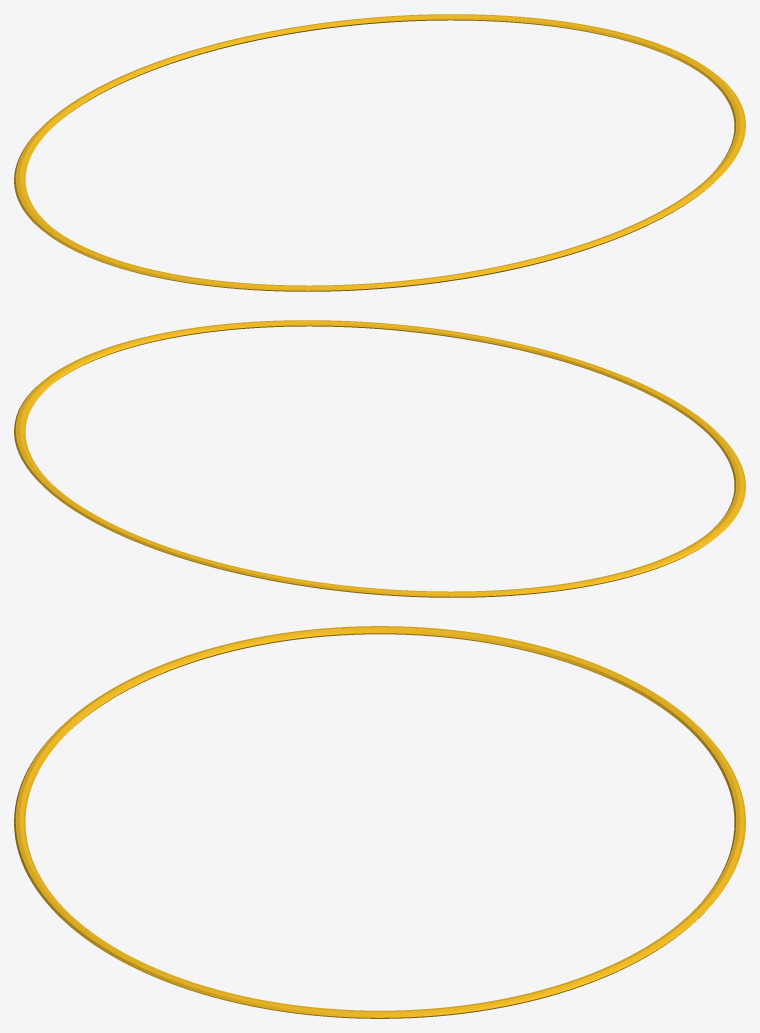
File: ring_orange.glb
The picture shows the model from 3 angles, top to bottom: view 1: azimuth 30°, elevation 25°; view 2: azimuth 150°, elevation 25°; view 3: azimuth 270°, elevation 25°; orthographic projection. The views are drawn at different scales.
Parts seen in each view (by area): view 1: world; view 2: world; view 3: world.
Boxes of the visible parts, x1,y1,x2,y2 form: world: (14,14,745,291); world: (14,320,745,597); world: (14,626,745,1018).
Bounding box in the file's own units: 4.88 × 0.032 × 3.86.
